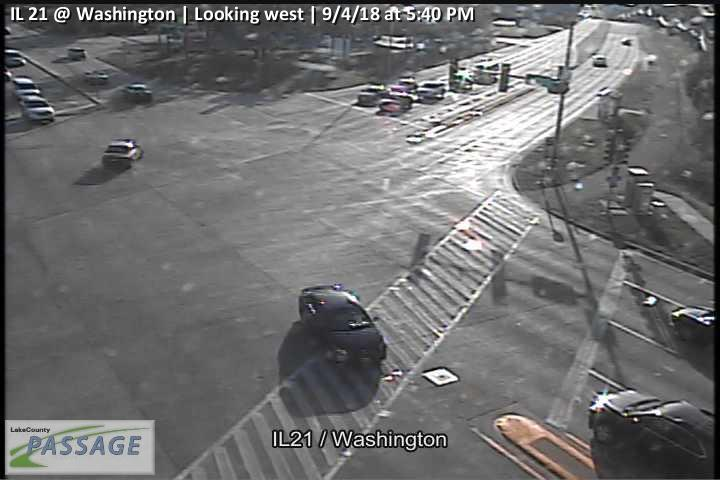SUV: (588, 389, 713, 469), (18, 94, 55, 123), (357, 84, 388, 107), (11, 76, 40, 100), (416, 80, 447, 101), (391, 76, 418, 95), (67, 47, 87, 59), (591, 54, 606, 67)
Sedan: (299, 283, 385, 367), (101, 139, 143, 171), (377, 92, 412, 116), (123, 83, 153, 100), (5, 48, 26, 68), (83, 69, 110, 84)
